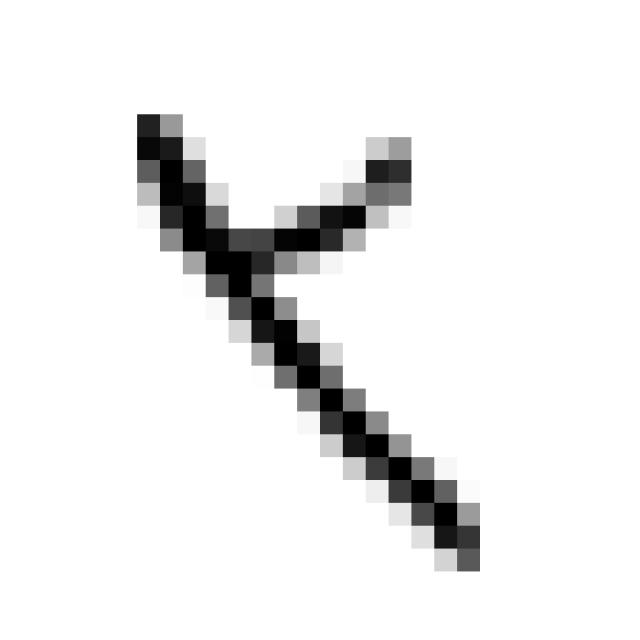3 -three-: (105, 78, 502, 589)
